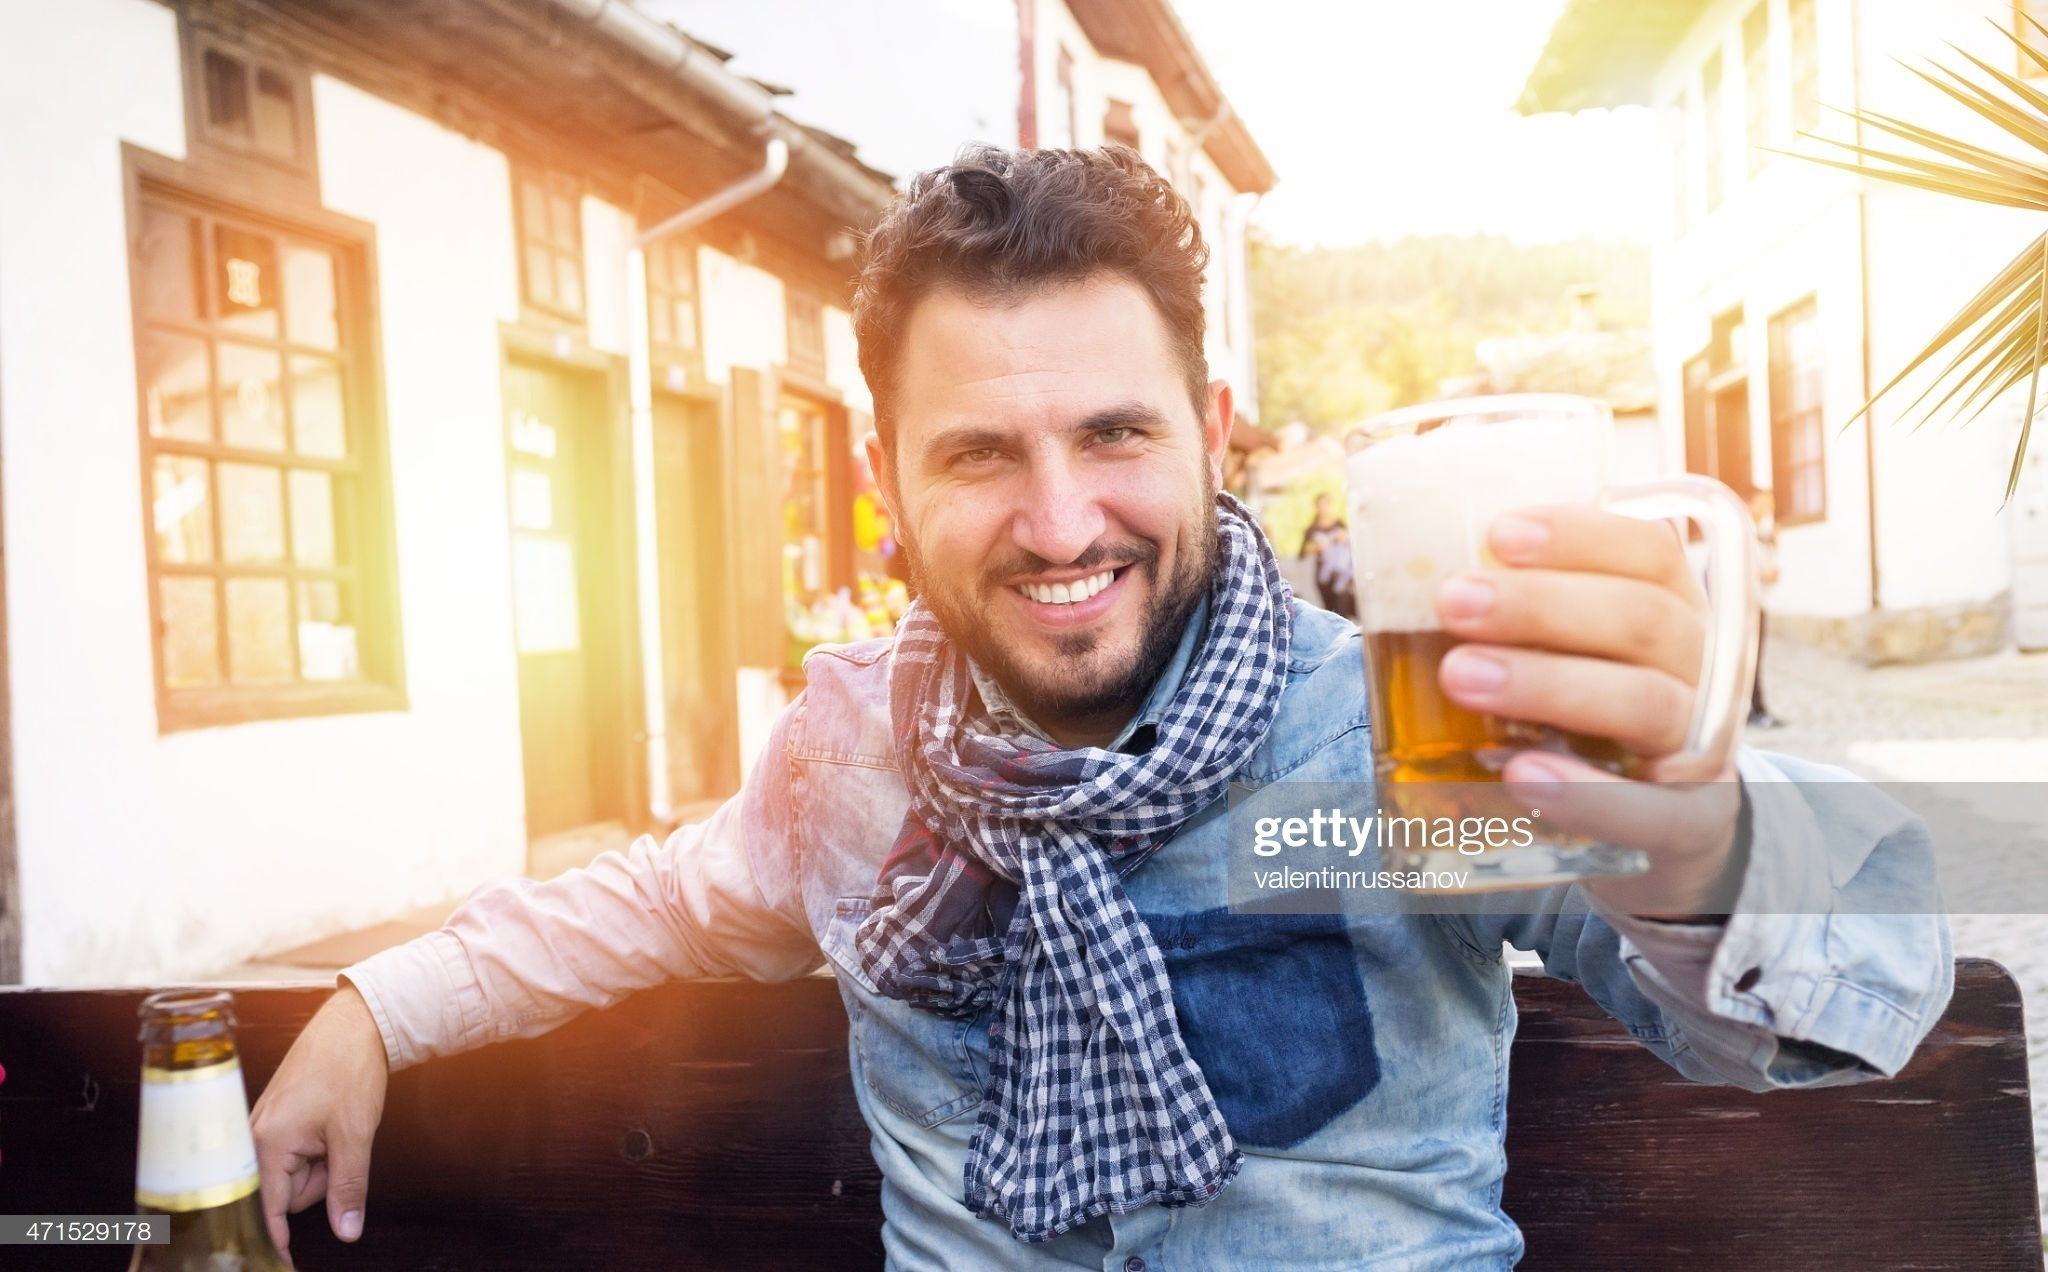whiskey: (1351, 397, 1718, 876)
